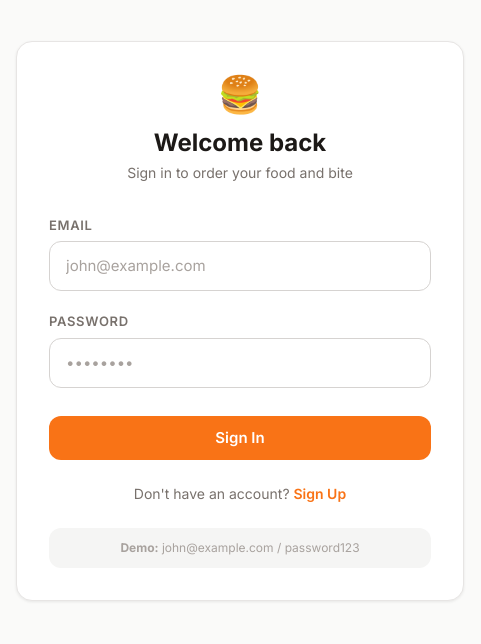
it: LoginPage › shows error messages for empty fields on submit
Step 1. Click the button "Sign In" → click(240, 438), box [49,416,431,460]
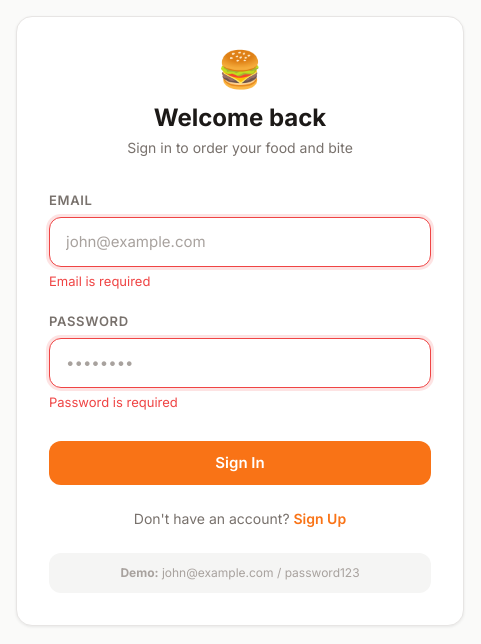
expect the text "Email is required" is shown: met, box [49,272,150,288]
expect the text "Password is required" is shown: met, box [49,394,178,410]
